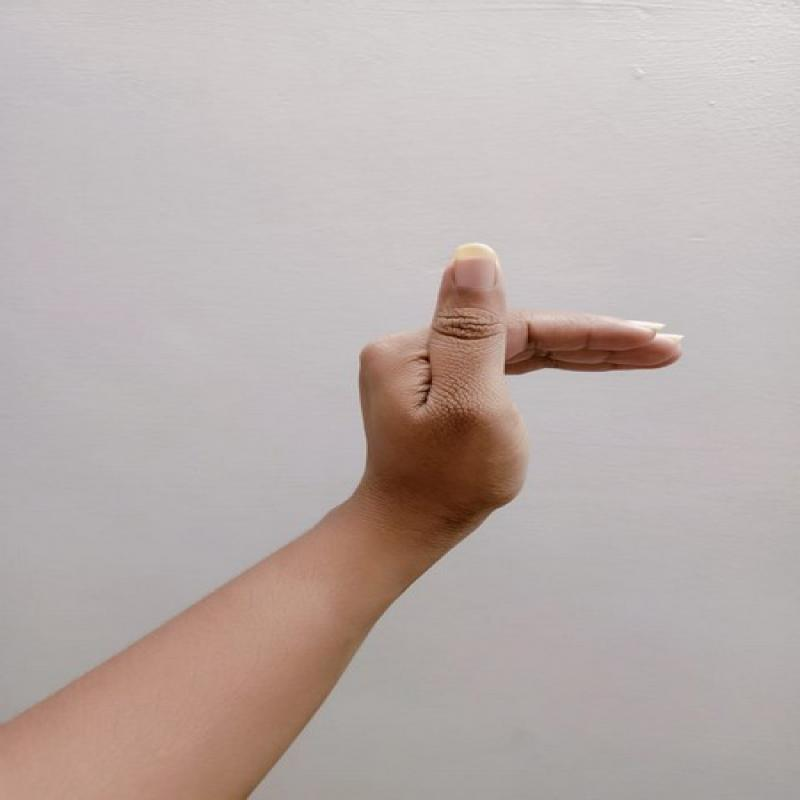Kartharee Mukham: (341, 241, 691, 529)
